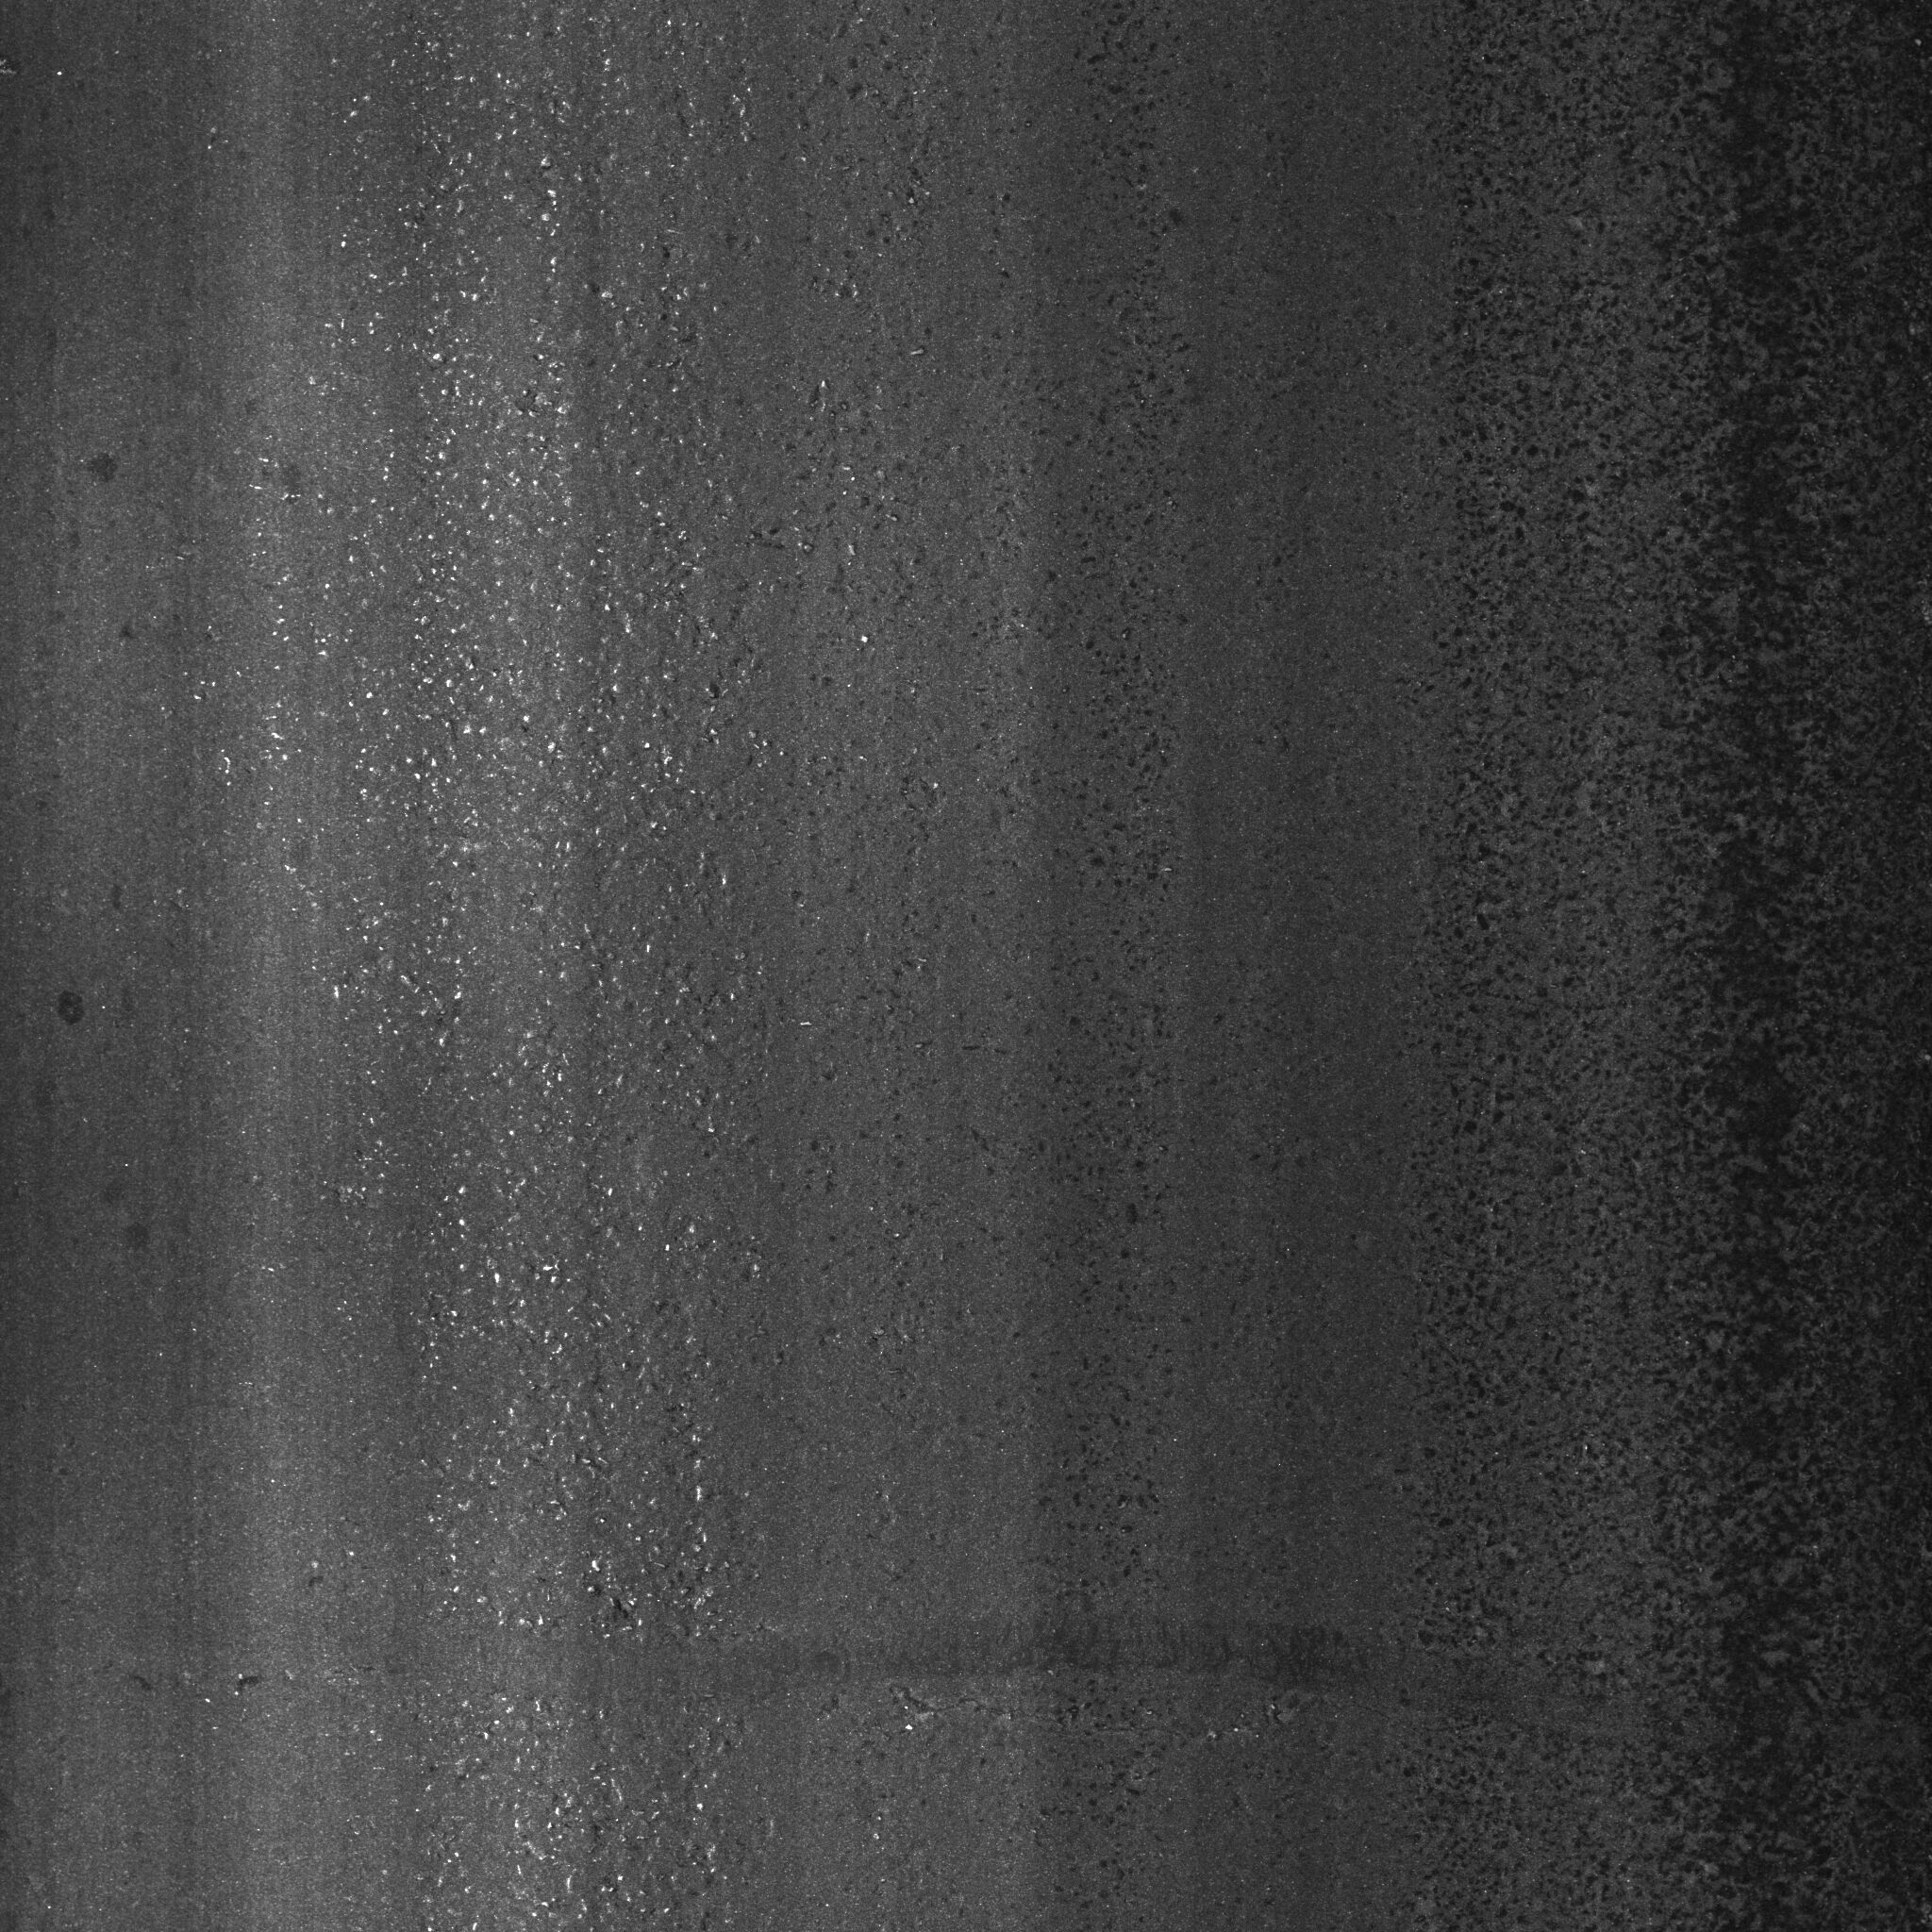transeverse: (150, 1592, 1714, 1771)
